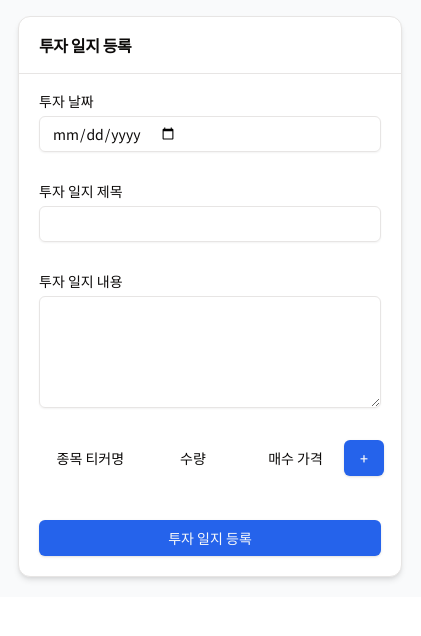
Test: DiaryAdd Test › 종목 정보 미입력시 validation 출력
This screenshot has width=421, height=636.
Click the button named "insert_asset_button" at [364, 458], box 344,440 -> 384,476
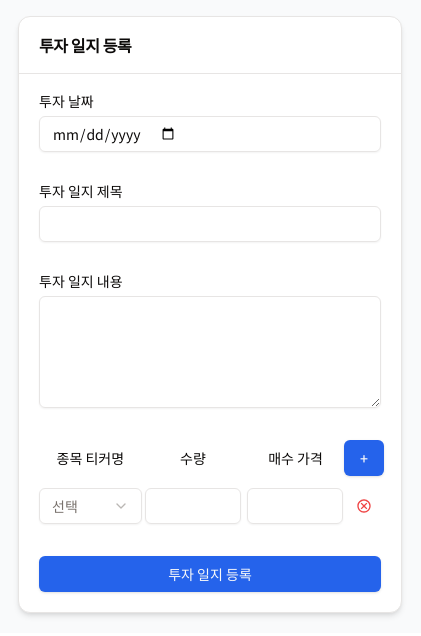
Click the button with aria-label "submit_button" at [210, 574], box 39,556 -> 381,592
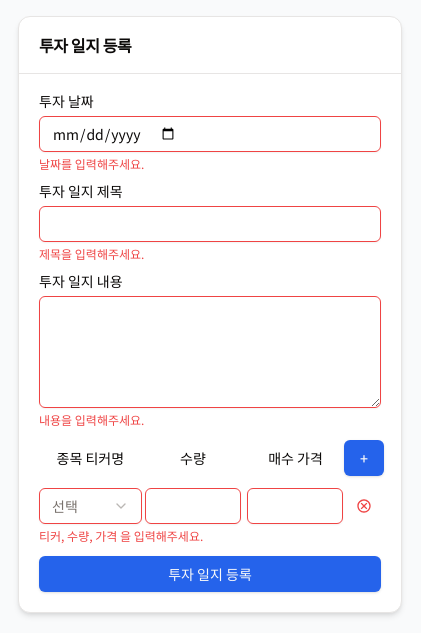
Result: the text named "asset_error_text" reads "티커, 수량, 가격 을 입력해주세요." at 39,528 -> 203,544
